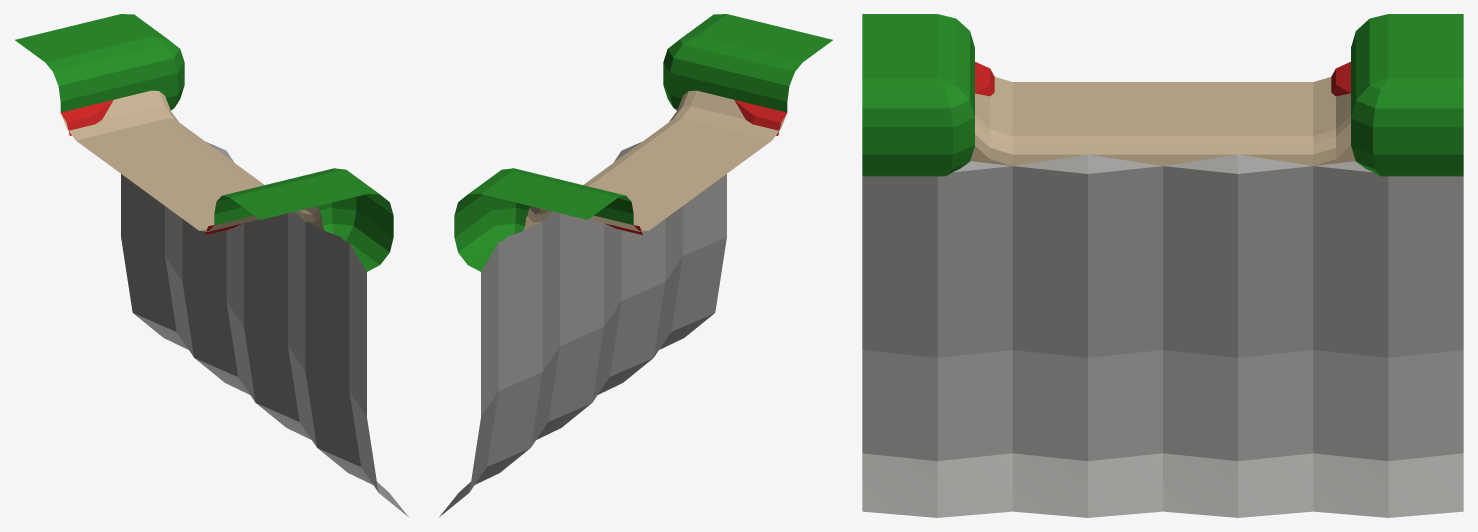
Rendered from Track_Cliff_Edge_Striped_3_Tall_Double.obj.
3 renders of one model, left to right at view 1: azimuth 30°, elevation 25°; view 2: azimuth 150°, elevation 25°; view 3: azimuth 270°, elevation 25°, orthographic. The views are drawn at different scales.
Visible parts, largest first — view 1: Rock, Grass, Dirt, object2; view 2: Rock, Grass, Dirt, object1; view 3: Rock, Grass, Dirt.
Boxes of the visible parts, x1=… form: Rock: x1=121, y1=142, x2=408, y2=517; Grass: x1=15, y1=14, x2=393, y2=271; Dirt: x1=61, y1=90, x2=324, y2=231; object2: x1=61, y1=100, x2=113, y2=135; Rock: x1=439, y1=142, x2=726, y2=517; Grass: x1=454, y1=14, x2=832, y2=271; Dirt: x1=523, y1=90, x2=786, y2=231; object1: x1=734, y1=100, x2=786, y2=135; Rock: x1=862, y1=154, x2=1463, y2=517; Grass: x1=862, y1=14, x2=1463, y2=176; Dirt: x1=970, y1=77, x2=1355, y2=165.
Bounding box in the file's own units: 1.5 × 3 × 4.
